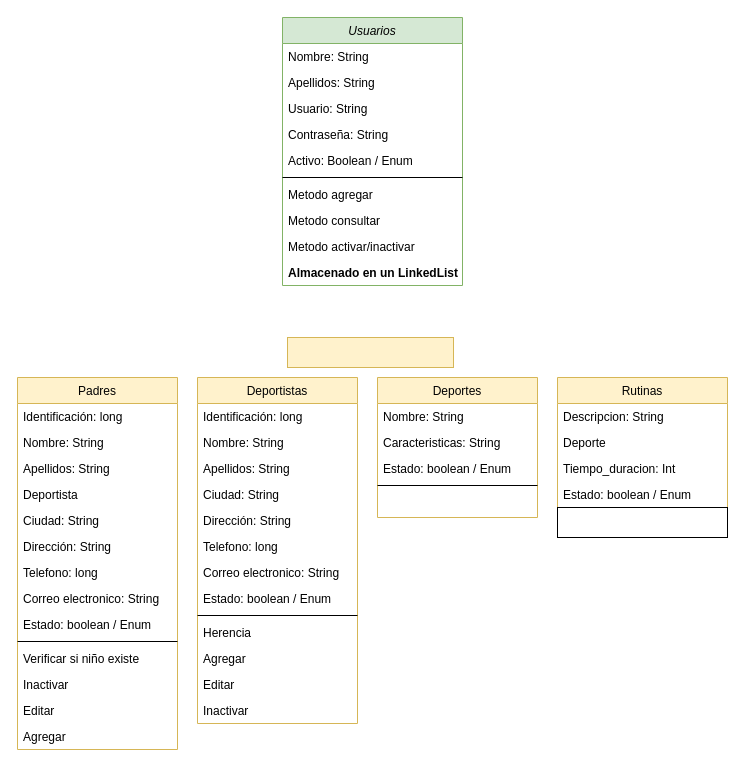
Image size: 745x770. Some labels were removed from this diagram. The box of each missing label's shape, as (x1, y1, x2, y2) in pixels:
ArrayList / Arrelo de objetos: (286, 336, 454, 368)
Verificar que el deporte existe: (556, 506, 728, 538)
